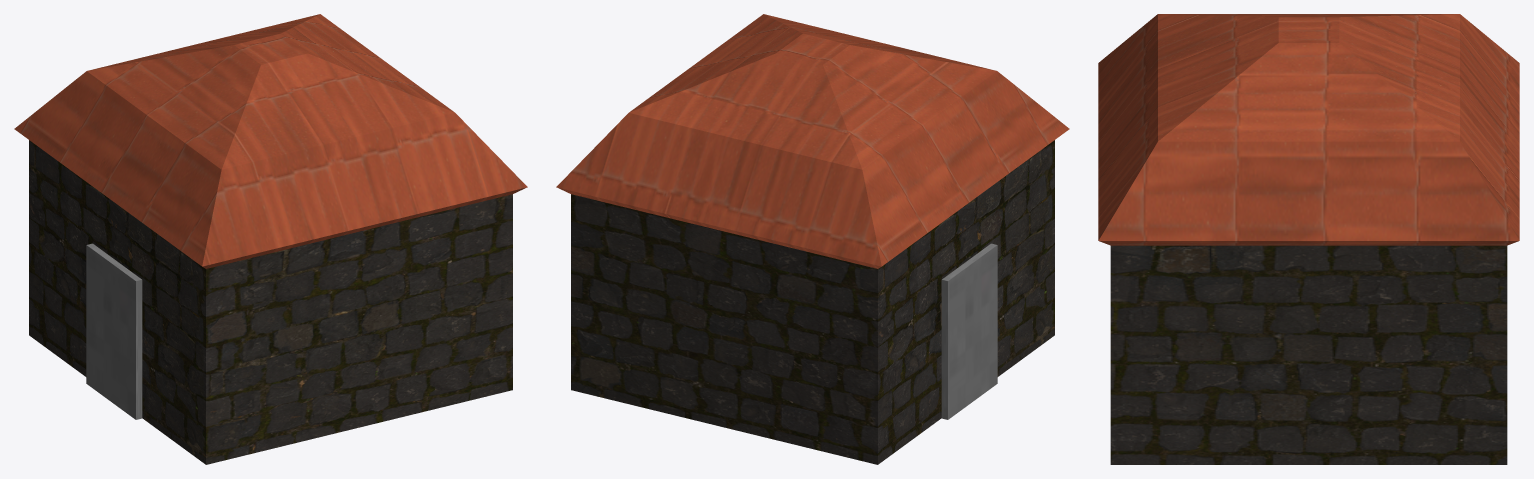
File: rural-house-small_5.fbx
The picture shows the model from 3 angles, left to right: view 1: azimuth 30°, elevation 25°; view 2: azimuth 150°, elevation 25°; view 3: azimuth 270°, elevation 25°; orthographic projection. The views are drawn at different scales.
Visible parts, largest first — view 1: Cube.041; view 2: Cube.041; view 3: Cube.041.
Boxes of the visible parts, x1=… form: Cube.041: x1=14, y1=14, x2=527, y2=464; Cube.041: x1=556, y1=14, x2=1069, y2=464; Cube.041: x1=1098, y1=14, x2=1519, y2=464.
Size of the model in its own units: 361 by 332 by 361.
